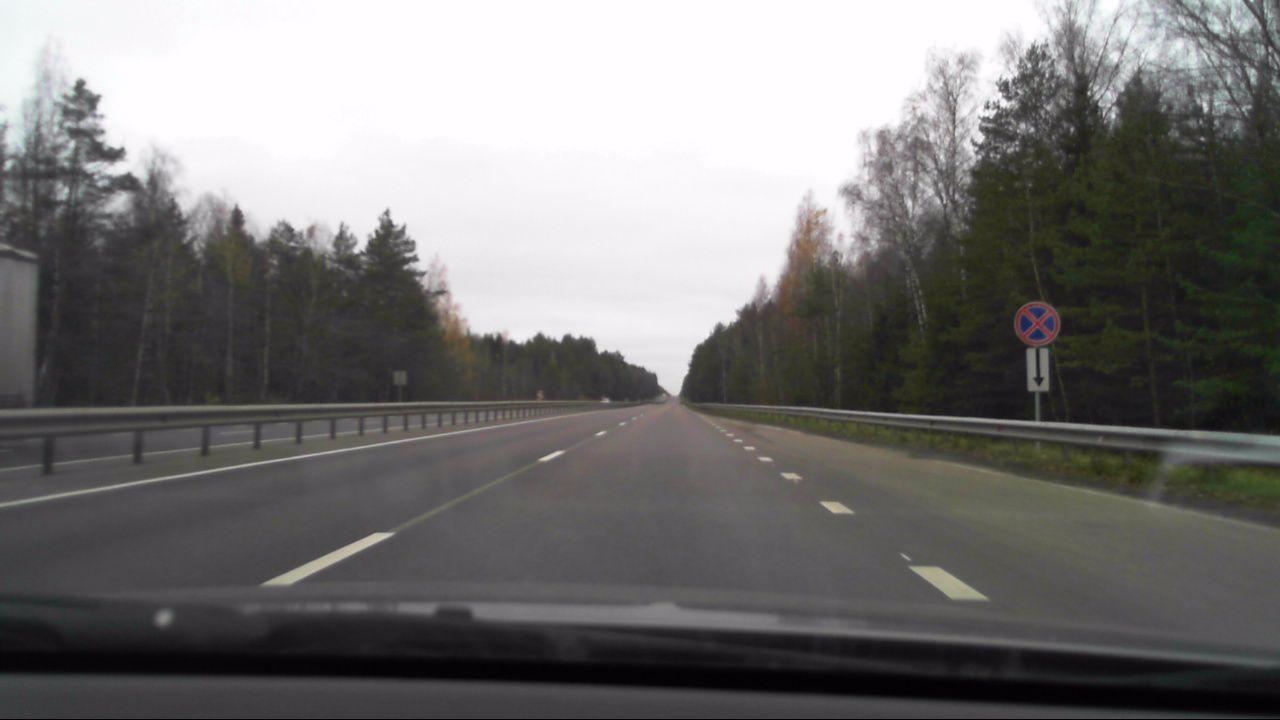3_27: (1016, 299, 1059, 347)
8_2_3: (1026, 346, 1052, 392)
